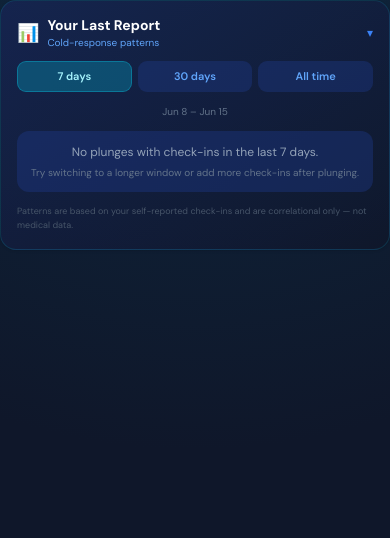
Scenario: DiscoveryReportCard — All-time tab never goes blank with many check-ins across years › All-time tab shows 12 check-ins in the subtitle for a 2-year dataset
The width and height of the screenshot is (390, 538).
Click the button "All time": (316, 76) left=258, top=61, right=373, bottom=92
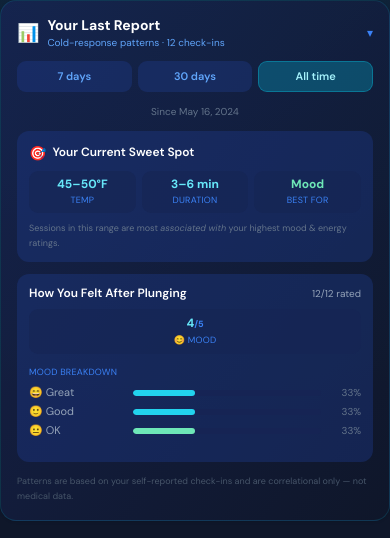
Expected: the text "Cold-response patterns · 12 check-ins" is shown, left=48, top=36, right=225, bottom=49
